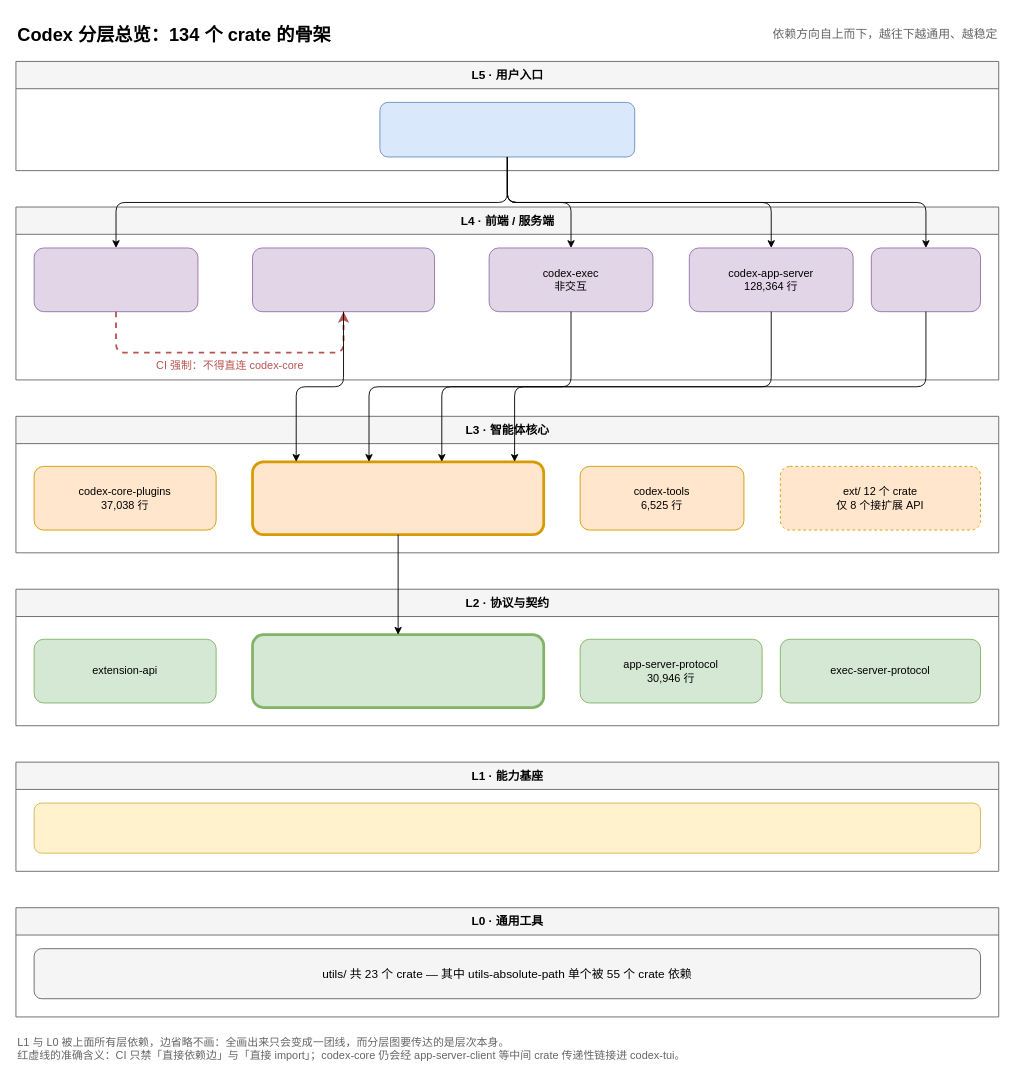
The diagram is 1015 pixels wide and 1091 high, and some of its shapes have lost their labels. Each missing label, with the centre of its shape:
app-server-client 协议化通路: (x=343, y=279)
codex-cli 解析命令行，分发 27 个子命令: (x=507, y=129)
codex-core 296,963 行 · 依赖 66 个内部 crate 体量重心: (x=398, y=498)
codex-mcp-server 4,128 行: (x=925, y=279)
codex-protocol 被 70 个 crate 依赖 依赖重心: (x=398, y=670)
codex-tui 238,439 行: (x=115, y=279)
config · login · http-client · sandboxing · state · otel: (x=507, y=827)
